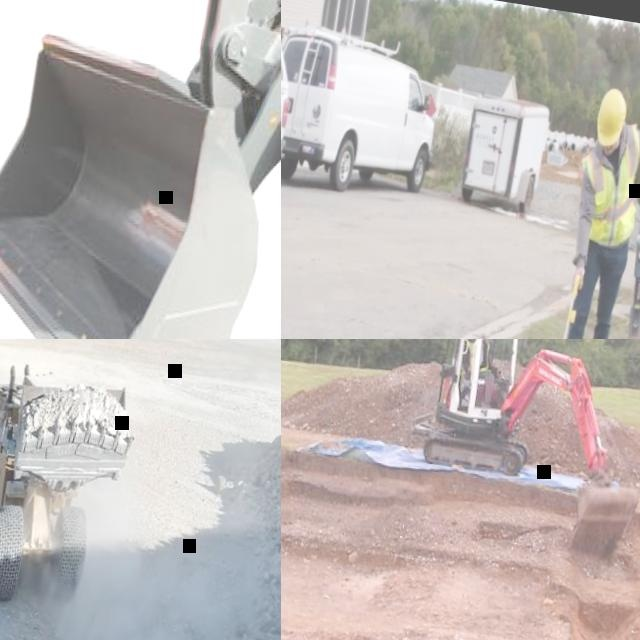Hardhat: (593, 86, 629, 149)
NO-Mask: (602, 144, 614, 156)
Person: (540, 85, 640, 339), (457, 339, 509, 402)
Safety Cone: (576, 154, 586, 180)
Safety Vest: (570, 116, 640, 247), (462, 339, 491, 374)
machinery: (0, 0, 281, 339), (407, 339, 640, 569), (0, 354, 143, 632)
vehicle: (281, 24, 449, 205)
